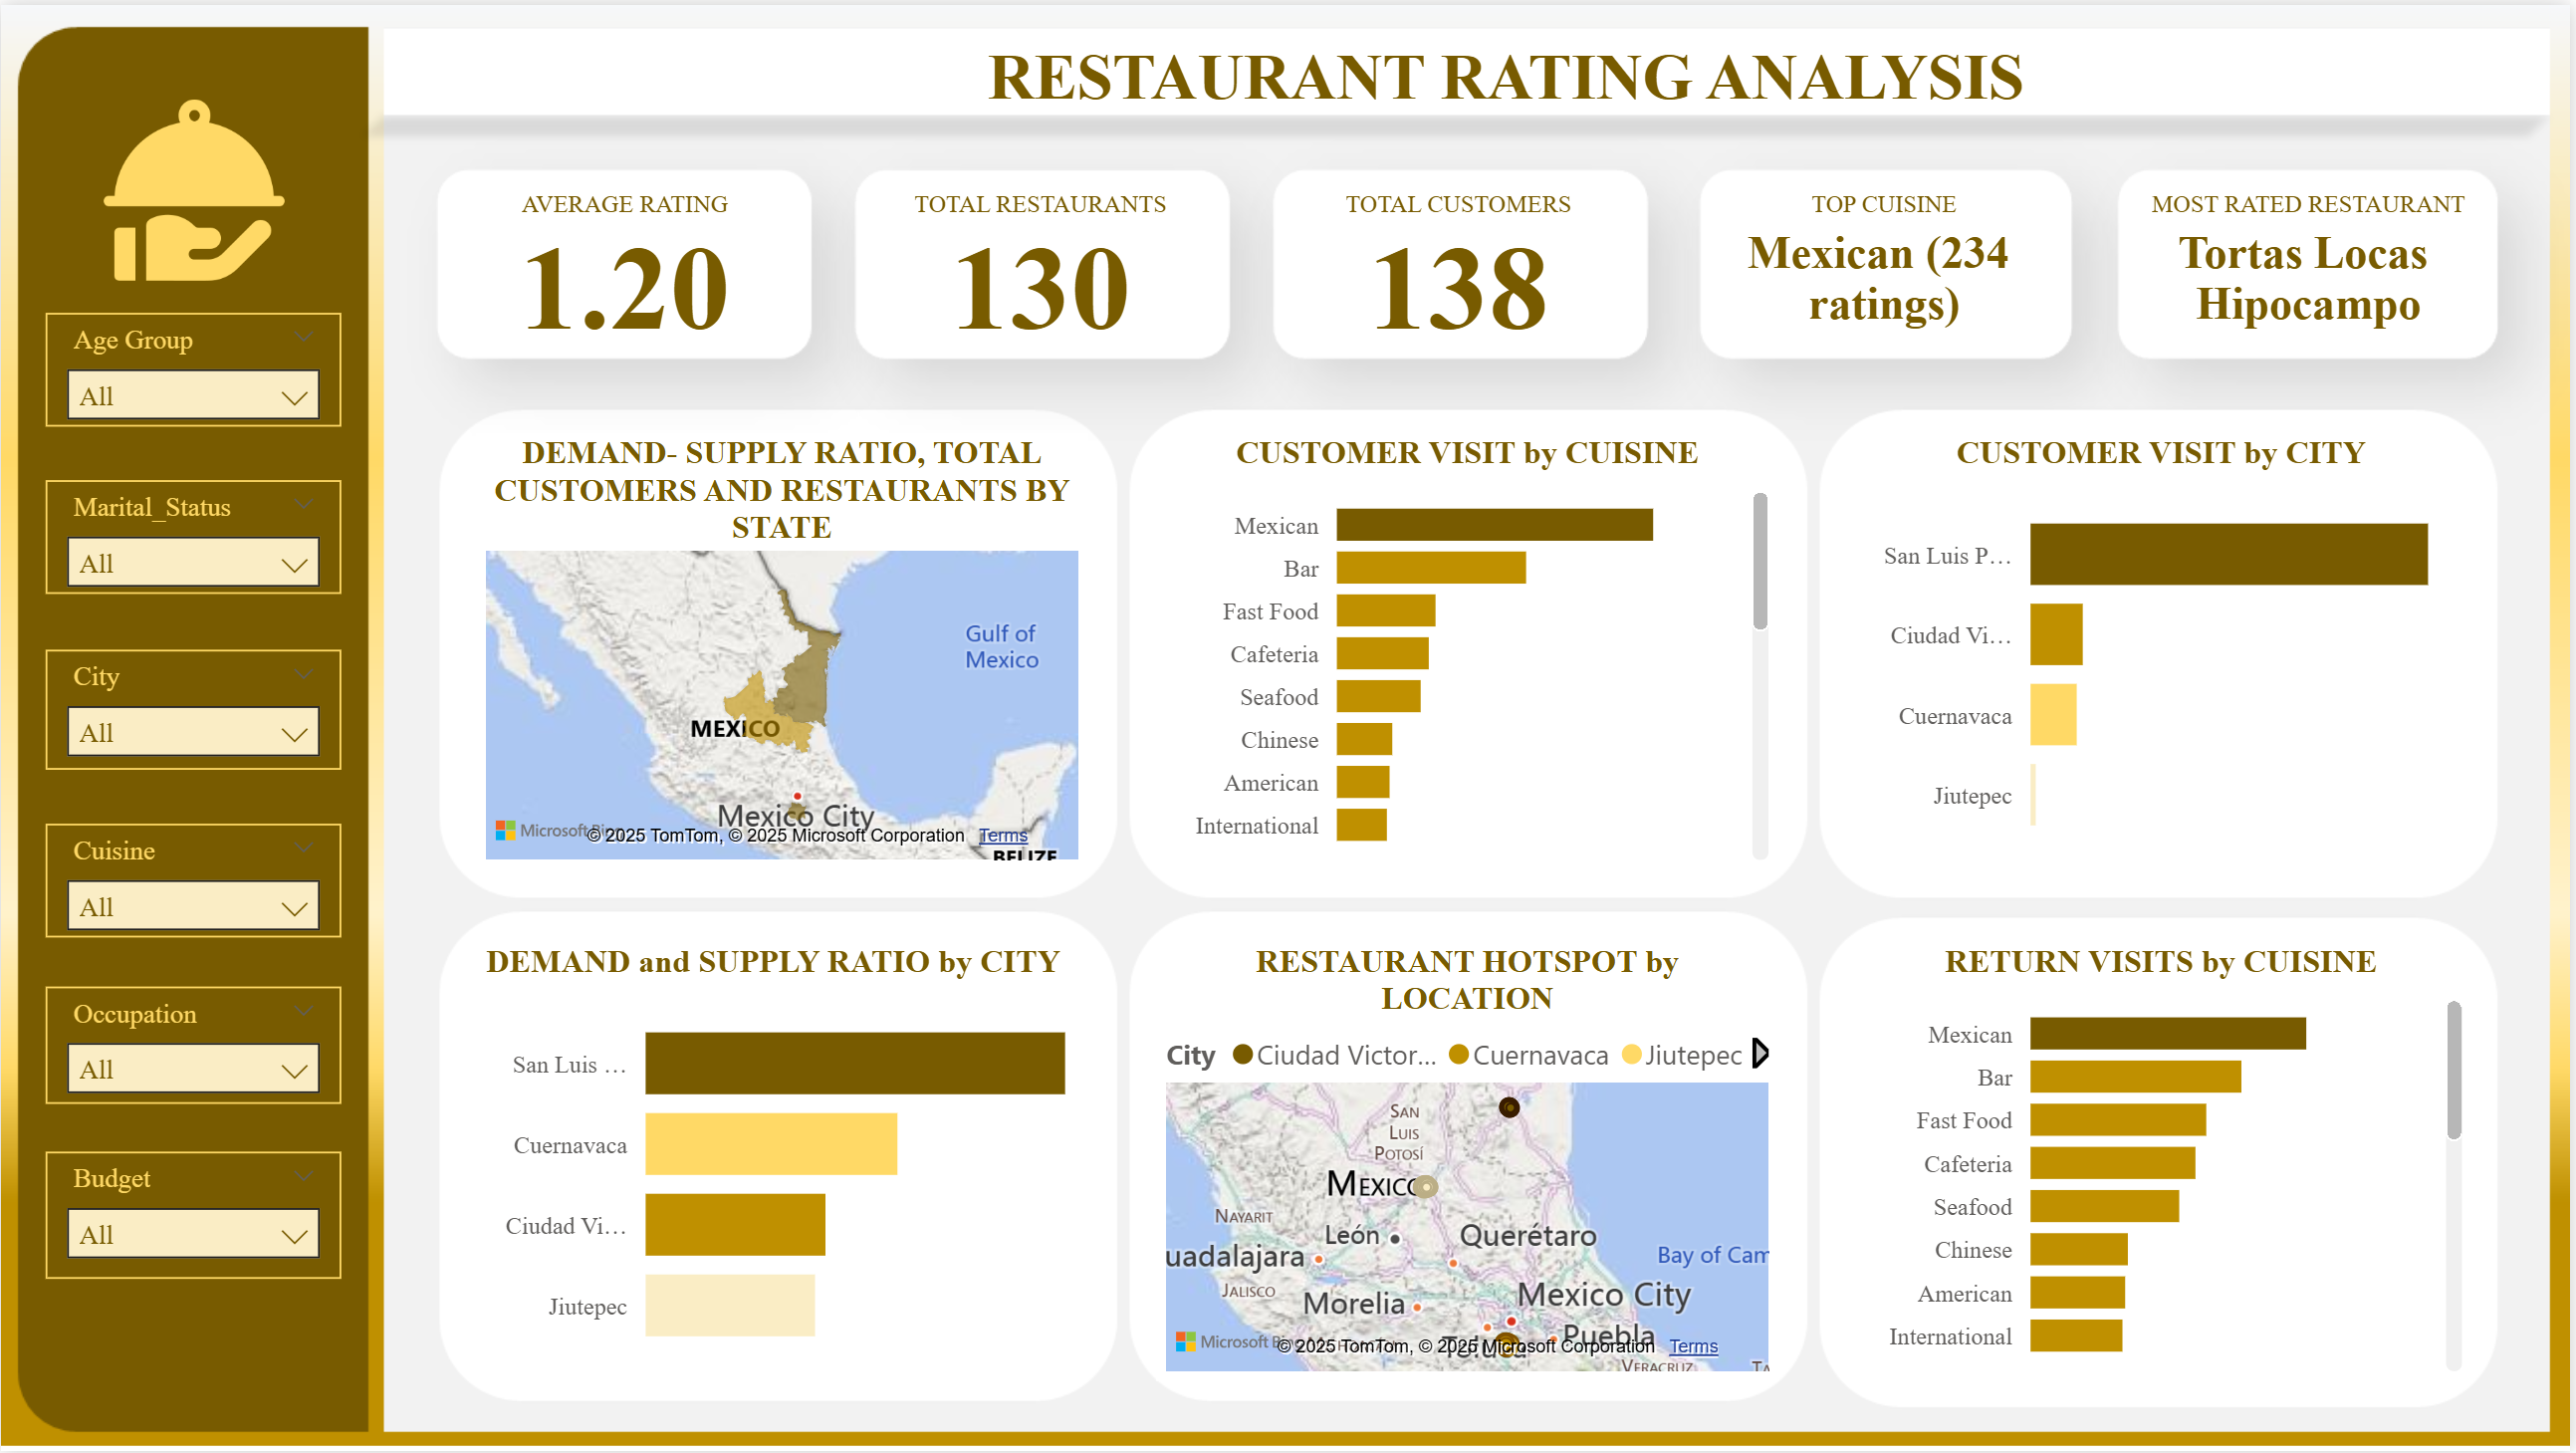

The dashboard page shown, as its layout file describes it:
{"tool":"powerbi","page":{"name":"Page 2","canvas":[1280,720],"ordinal":1},"visuals":[{"type":"textbox","box":[472,0,554.8,75.7],"z":0},{"type":"card","title":"AVERAGE RATING","fields":{"Values":["Measure_Table.Average Rating"]},"box":[224,92,172.7,77.3],"z":1000},{"type":"card","title":"TOTAL RESTAURANTS","fields":{"Values":["Measure_Table.Total Restaurants"]},"box":[432,92,171.3,77.3],"z":2000},{"type":"card","title":"TOTAL CUSTOMERS","fields":{"Values":["Measure_Table.Total Customers"]},"box":[641.3,92,170,77.3],"z":3000},{"type":"card","title":"TOP CUISINE","fields":{"Values":["Measure_Table.Top Cuisine"]},"box":[854.7,92,167.3,77.3],"z":4000},{"type":"card","title":"MOST RATED RESTAURANT","fields":{"Values":["Measure_Table.Most Rated Restaurant"]},"box":[1062,92,174.7,77.3],"z":5000},{"type":"slicer","fields":{"Values":["consumers.Age Group"]},"box":[22,153,147.5,56.7],"z":6000},{"type":"slicer","fields":{"Values":["consumers.Marital_Status"]},"box":[22,236.3,147.5,56.7],"z":7000},{"type":"slicer","fields":{"Values":["consumers.City"]},"box":[22,321.3,147.5,60],"z":8000},{"type":"slicer","fields":{"Values":["restaurant_cuisines.Cuisine"]},"box":[22,408,147.5,56.7],"z":9000},{"type":"slicer","fields":{"Values":["consumers.Occupation"]},"box":[22,488.8,147.5,58.3],"z":10000},{"type":"slicer","fields":{"Values":["consumers.Budget"]},"box":[22,571.3,147.5,63.3],"z":11000},{"type":"image","box":[44,42,104,100],"z":12000},{"type":"azureMap","title":"DEMAND- SUPPLY  RATIO, TOTAL CUSTOMERS AND RESTAURANTS BY STATE","fields":{"Category":["restaurants.State"]},"box":[236.2,213.8,305,217.5],"z":13000},{"type":"barChart","title":"CUSTOMER VISIT by CUISINE","fields":{"Category":["restaurant_cuisines.Cuisine"],"Y":["Measure_Table.Visits by Cuisine"]},"box":[575,213.8,310,217.5],"z":14000},{"type":"barChart","title":"CUSTOMER VISIT by CITY","fields":{"Category":["restaurants.City"],"Y":["Measure_Table.Visits by Area"]},"box":[921.2,213.8,310,217.5],"z":15000},{"type":"barChart","title":"DEMAND and SUPPLY RATIO by CITY","fields":{"Category":["restaurants.City"],"Y":["Measure_Table.Demand-Supply Ratio"]},"box":[232.5,466.2,305,218.8],"z":16000},{"type":"azureMap","title":"RESTAURANT HOTSPOT by LOCATION","fields":{"Y":["restaurants.Latitude"],"X":["restaurants.Longitude"],"Series":["restaurants.City"],"Size":["Measure_Table.Average Rating"]},"box":[575,466.2,310,218.8],"z":17000},{"type":"barChart","title":"RETURN VISITS by CUISINE","fields":{"Category":["restaurant_cuisines.Cuisine"],"Y":["Measure_Table.Return Visits by Cuisine"]},"box":[921.2,466.2,310,218.8],"z":18000}]}

Visuals, with their boxes in screenshot pixels (x1, y1, x2, y2), scaled from the page's 1280x720 canvas onto the 2576x1453 screenshot:
textbox: select_region(950, 0, 2066, 152)
"AVERAGE RATING" card: select_region(451, 185, 799, 342)
"TOTAL RESTAURANTS" card: select_region(869, 185, 1214, 342)
"TOTAL CUSTOMERS" card: select_region(1290, 185, 1633, 342)
"TOP CUISINE" card: select_region(1720, 185, 2057, 342)
"MOST RATED RESTAURANT" card: select_region(2137, 185, 2488, 342)
slicer - consumers.Age Group: select_region(44, 309, 342, 423)
slicer - consumers.Marital_Status: select_region(44, 477, 342, 592)
slicer - consumers.City: select_region(44, 648, 342, 770)
slicer - restaurant_cuisines.Cuisine: select_region(44, 824, 342, 938)
slicer - consumers.Occupation: select_region(44, 986, 342, 1104)
slicer - consumers.Budget: select_region(44, 1153, 342, 1281)
image: select_region(89, 85, 298, 287)
"DEMAND- SUPPLY  RATIO, TOTAL CUSTOMERS AND RESTAURANTS BY STATE" azureMap: select_region(475, 431, 1089, 870)
"CUSTOMER VISIT by CUISINE" barChart: select_region(1157, 431, 1781, 870)
"CUSTOMER VISIT by CITY" barChart: select_region(1854, 431, 2477, 870)
"DEMAND and SUPPLY RATIO by CITY" barChart: select_region(468, 941, 1081, 1382)
"RESTAURANT HOTSPOT by LOCATION" azureMap: select_region(1157, 941, 1781, 1382)
"RETURN VISITS by CUISINE" barChart: select_region(1854, 941, 2477, 1382)
